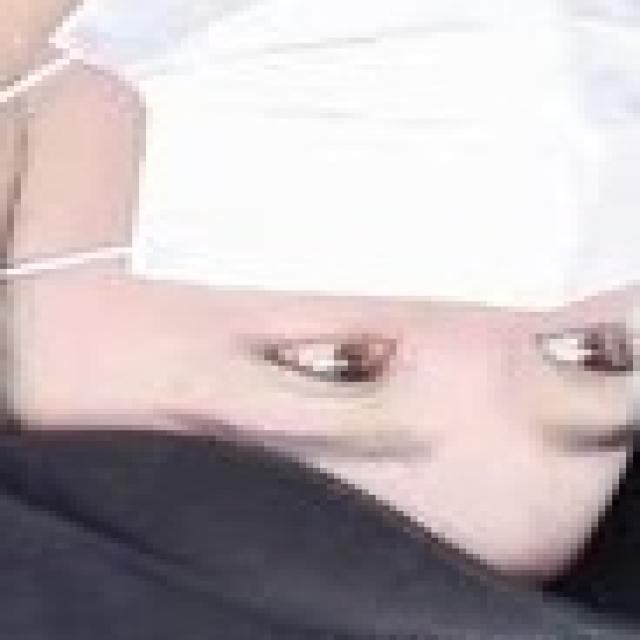mask: (39, 9, 633, 356)
